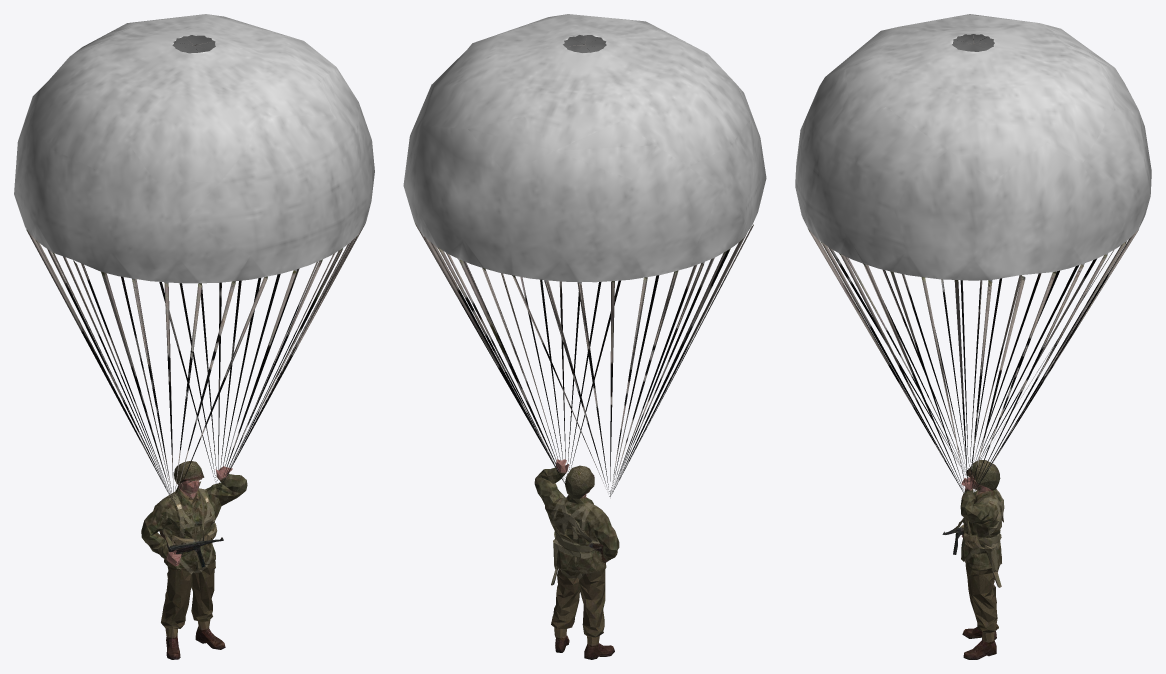
Rendered from realistic-by.d9ee2ef0d720.paratrooper.glb.
3 renders of one model, left to right at view 1: azimuth 30°, elevation 25°; view 2: azimuth 150°, elevation 25°; view 3: azimuth 270°, elevation 25°, orthographic.
Visible parts, largest first — view 1: paratrooper; view 2: paratrooper; view 3: paratrooper.
Boxes of the visible parts, left/top/right/bottom form: paratrooper: left=14, top=14, right=374, bottom=659; paratrooper: left=403, top=14, right=766, bottom=659; paratrooper: left=795, top=14, right=1151, bottom=659.
Bounding box in the file's own units: 3.2 × 5.86 × 3.13.
3 materials, 3 textured.
